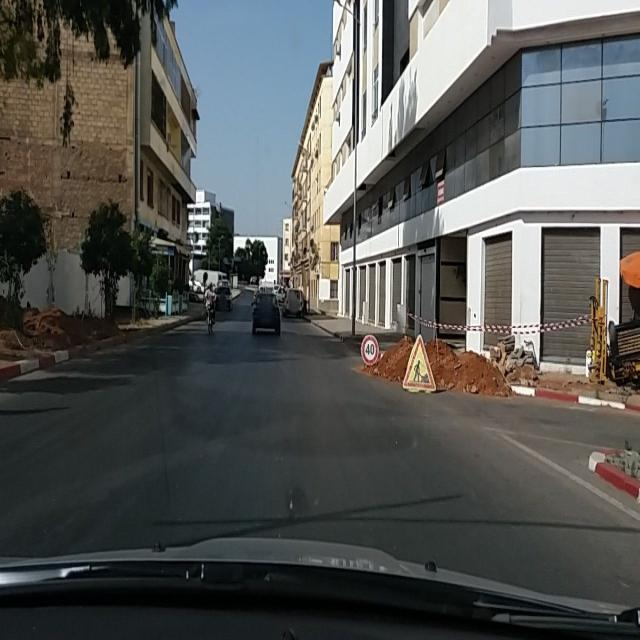bike: (492, 325, 540, 383), (206, 304, 216, 336)
car: (251, 293, 281, 335), (283, 287, 303, 317), (215, 286, 233, 312)
